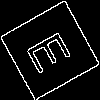E: (25, 25, 81, 76)
